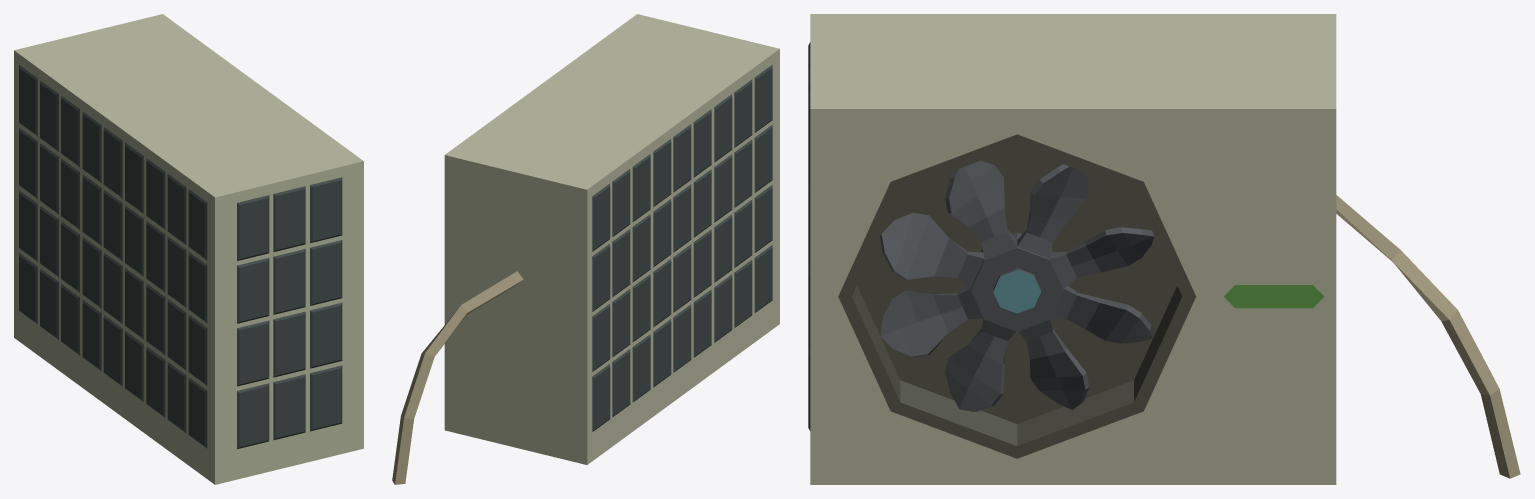
The model's file is air conditioner roof.fbx.
3 views of the same model, side by side, from view 1: azimuth 30°, elevation 25°; view 2: azimuth 150°, elevation 25°; view 3: azimuth 270°, elevation 25° (orthographic). The views are drawn at different scales.
Visible parts, largest first — view 1: air conditioner roof; view 2: air conditioner roof; view 3: air conditioner roof.
Part boxes in pixels (<box>): air conditioner roof: <box>14,14,363,484</box>; air conditioner roof: <box>392,14,779,484</box>; air conditioner roof: <box>808,14,1520,484</box>.
Size of the model in its own units: 53.53 by 98.27 by 168.
1 material, 1 textured.
